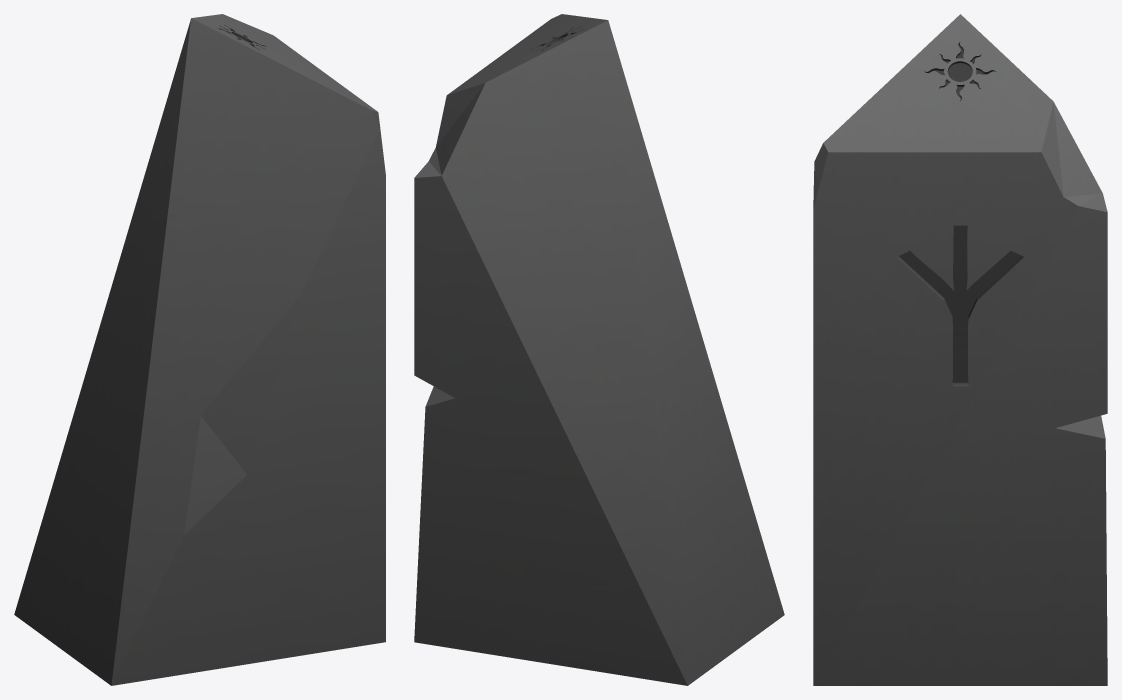
File: stelle_forest.glb
3 renders of one model, left to right at view 1: azimuth 30°, elevation 25°; view 2: azimuth 150°, elevation 25°; view 3: azimuth 270°, elevation 25°, orthographic. The views are drawn at different scales.
Parts seen in each view (by area): view 1: stelle_forest_merged; view 2: stelle_forest_merged; view 3: stelle_forest_merged.
Boxes of the visible parts, <box> form: stelle_forest_merged: <box>14,14,385,685</box>; stelle_forest_merged: <box>414,14,784,685</box>; stelle_forest_merged: <box>813,14,1107,685</box>.
Size of the model in its own units: 2 by 4.58 by 2.
Materials: 1 (1 with a texture image).
